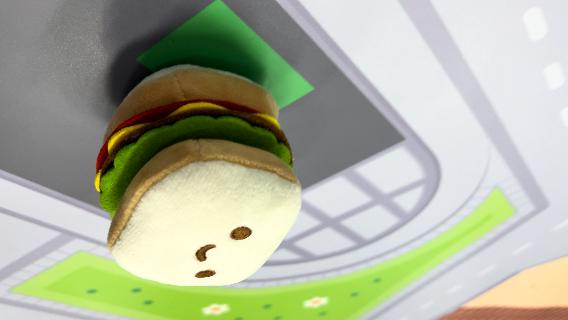sandwich: (92, 61, 305, 286)
